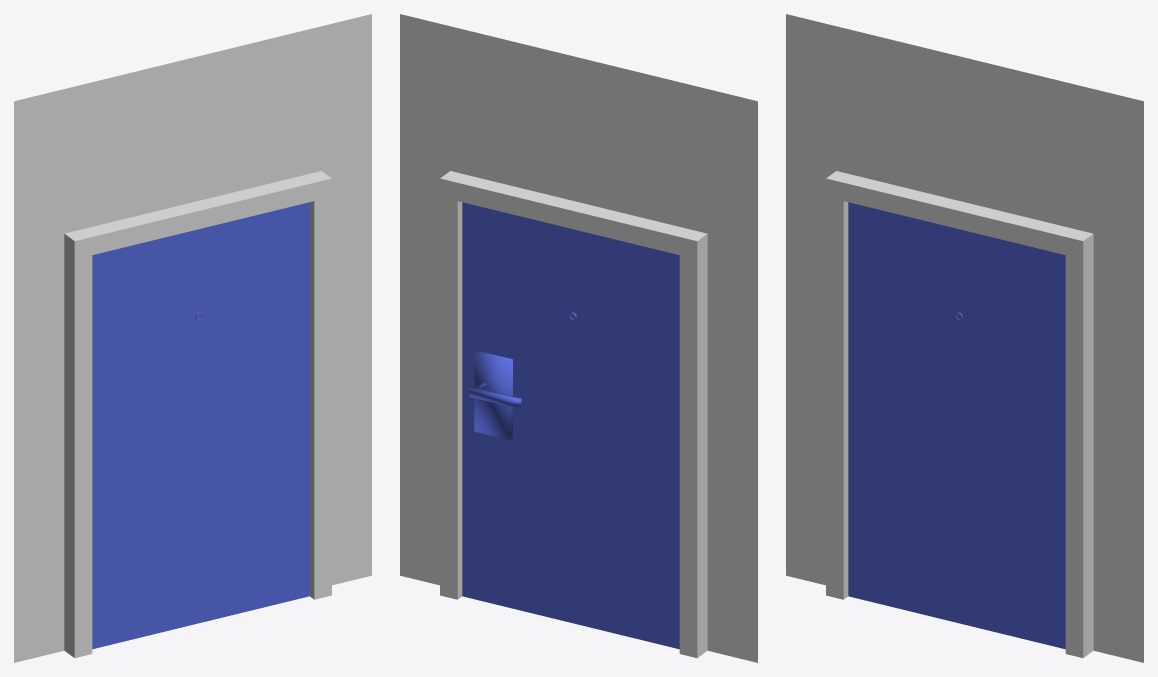
The model's file is model_door_01_close.fbx.
The picture shows the model from 3 angles, left to right: view 1: azimuth 30°, elevation 25°; view 2: azimuth 150°, elevation 25°; view 3: azimuth 330°, elevation 25°; orthographic projection.
Parts seen in each view (by area): view 1: Plane.025; view 2: Plane.025; view 3: Plane.025.
Part boxes in pixels (left/top/right/bottom): Plane.025: left=14, top=14, right=371, bottom=662; Plane.025: left=400, top=14, right=757, bottom=662; Plane.025: left=786, top=14, right=1143, bottom=662.
Bounding box in the file's own units: 200 × 300 × 29.17.
